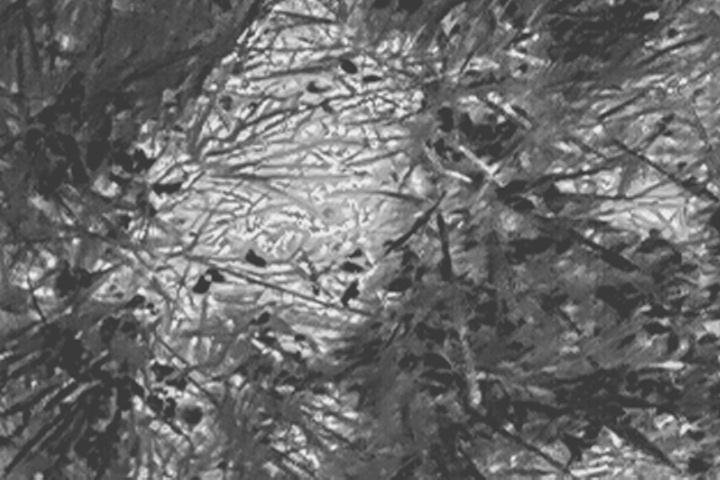landmine: (207, 72, 428, 333)
